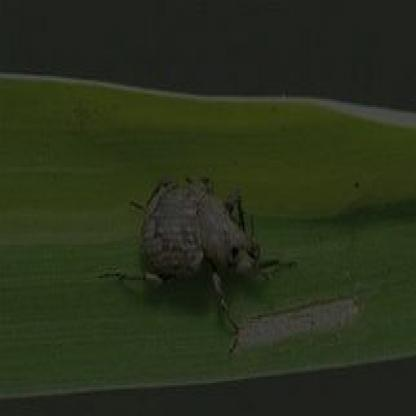rice-bug: (122, 174, 270, 324)
